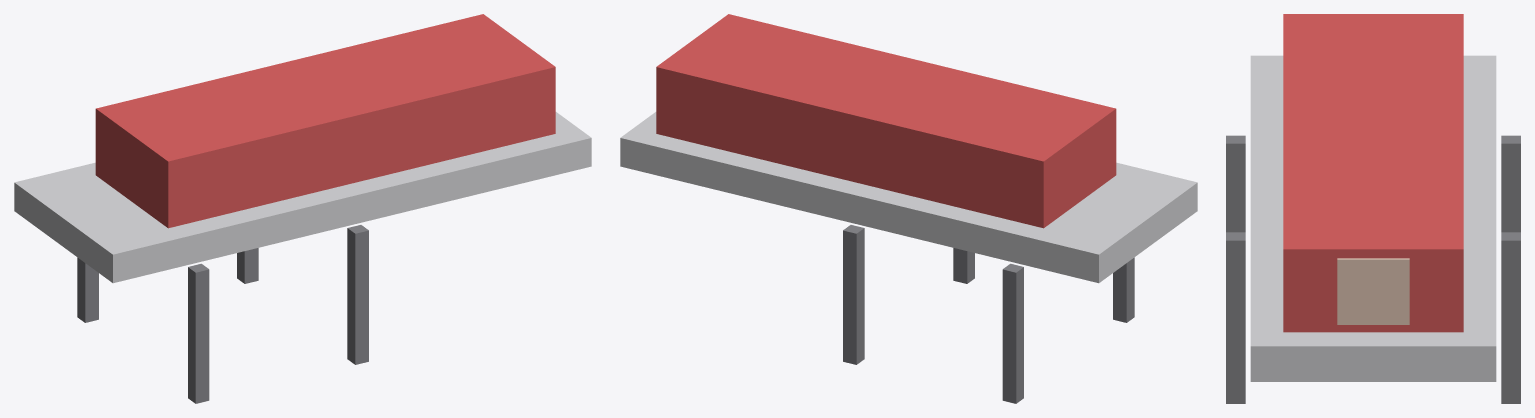
File: AED_Patient.gltf
3 renders of one model, left to right at view 1: azimuth 30°, elevation 25°; view 2: azimuth 150°, elevation 25°; view 3: azimuth 270°, elevation 25°, orthographic. The views are drawn at different scales.
Visible parts, largest first — view 1: AED_Patient; view 2: AED_Patient; view 3: AED_Patient.
Boxes of the visible parts, x1=… form: AED_Patient: x1=14, y1=14, x2=591, y2=403; AED_Patient: x1=620, y1=14, x2=1197, y2=403; AED_Patient: x1=1226, y1=14, x2=1520, y2=403.
Size of the model in its own units: 2.1 by 0.95 by 0.9.
